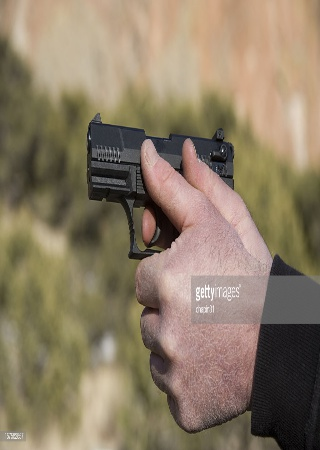handgun: (72, 105, 244, 259)
